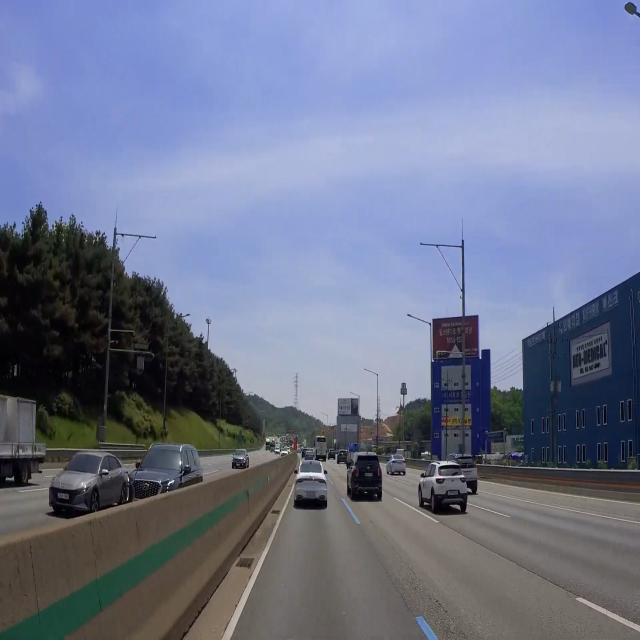car: (304, 488, 320, 504), (55, 491, 72, 504), (445, 488, 462, 500), (361, 471, 377, 483), (463, 469, 476, 483), (395, 460, 405, 469), (235, 462, 242, 467)
